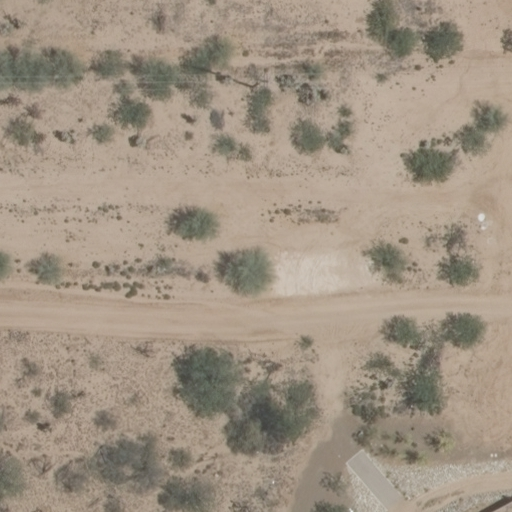DT: (246, 71, 270, 93)
